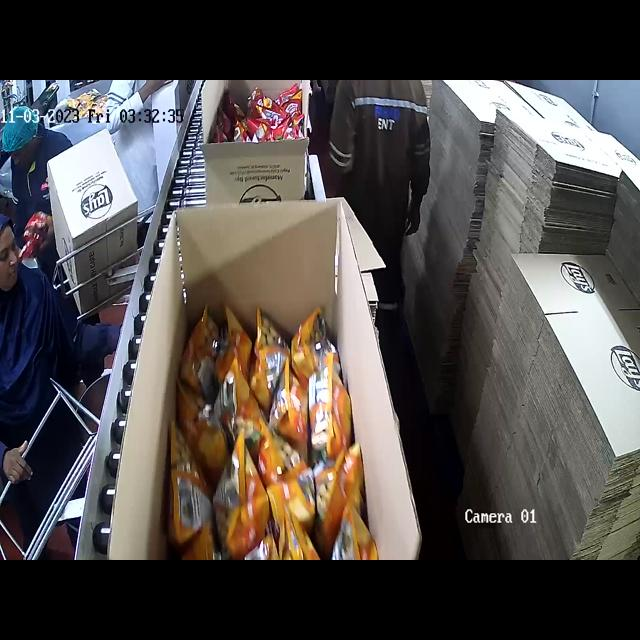cheese: (188, 302, 376, 560)
masala: (217, 96, 302, 145)
